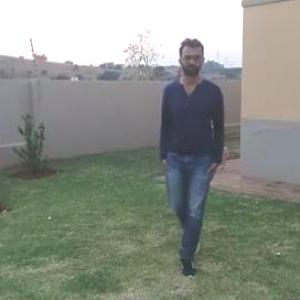follow: (139, 29, 226, 289)
